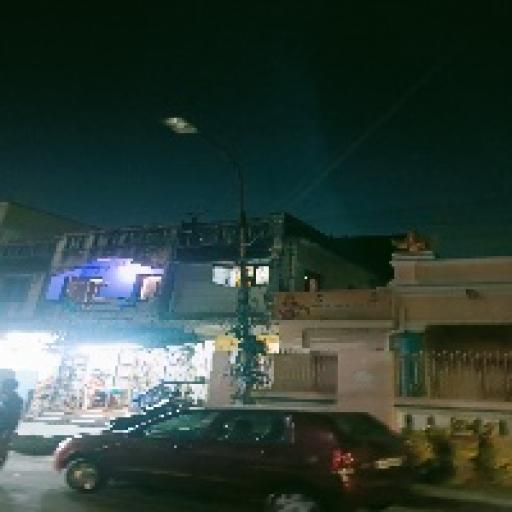Not Working: (154, 107, 208, 145)
